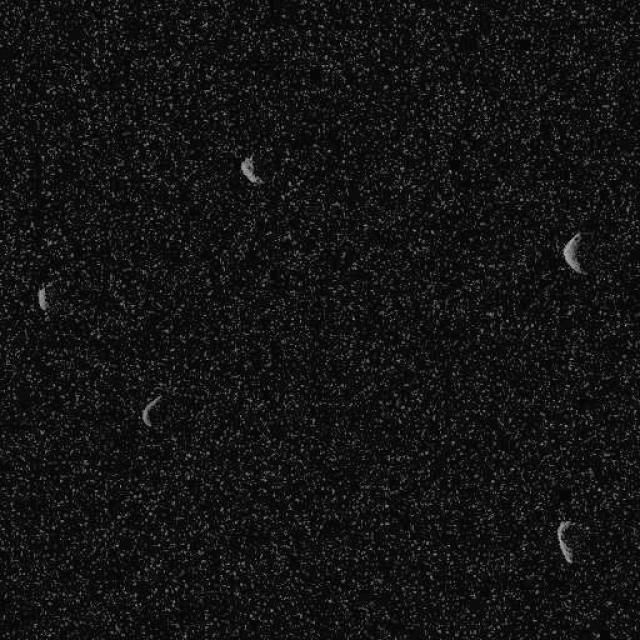D2: (561, 230, 585, 275), (555, 518, 575, 564), (239, 153, 265, 185), (140, 393, 162, 428), (36, 285, 50, 313)
